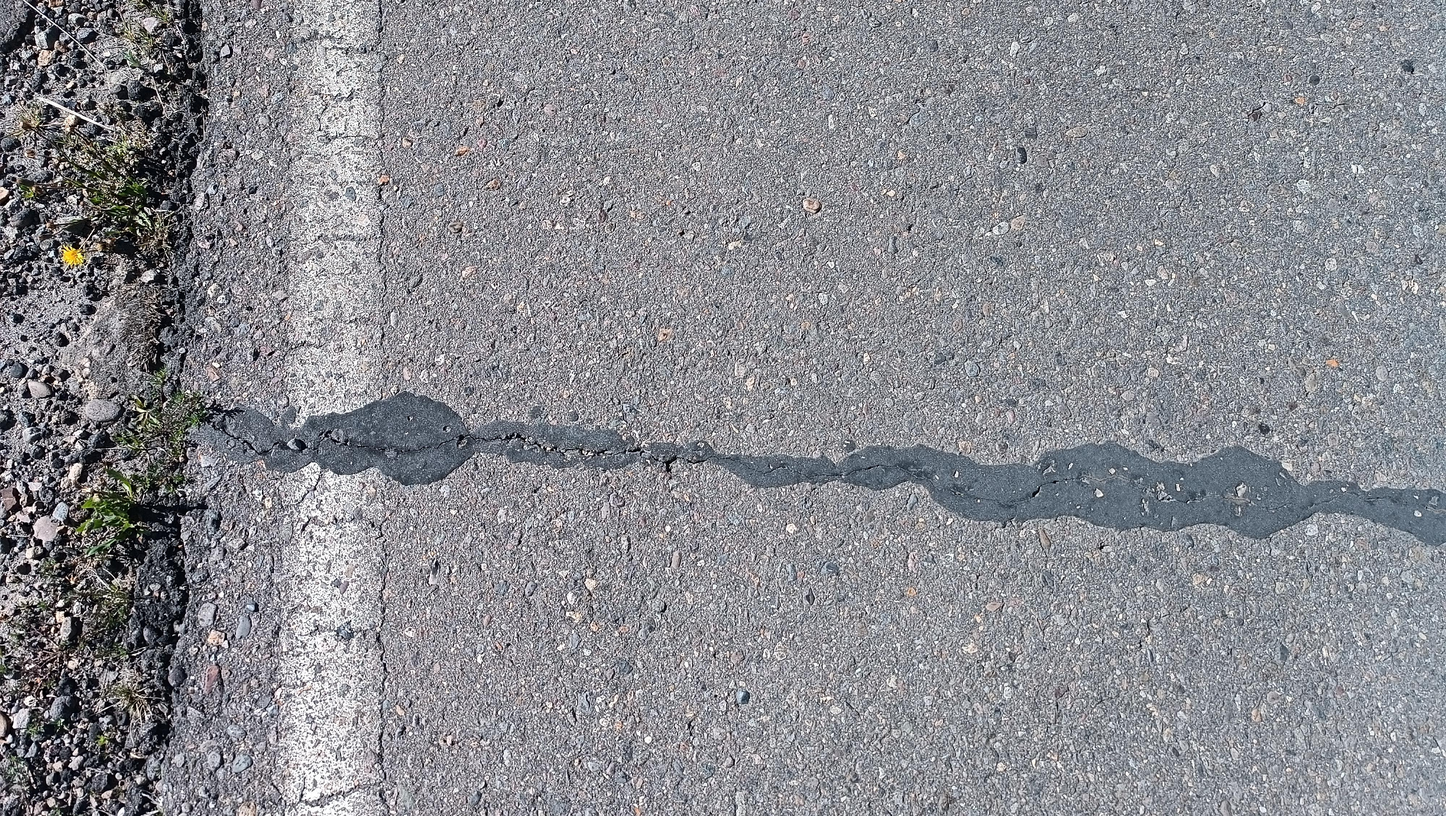GRIETA: (230, 431, 939, 490)
